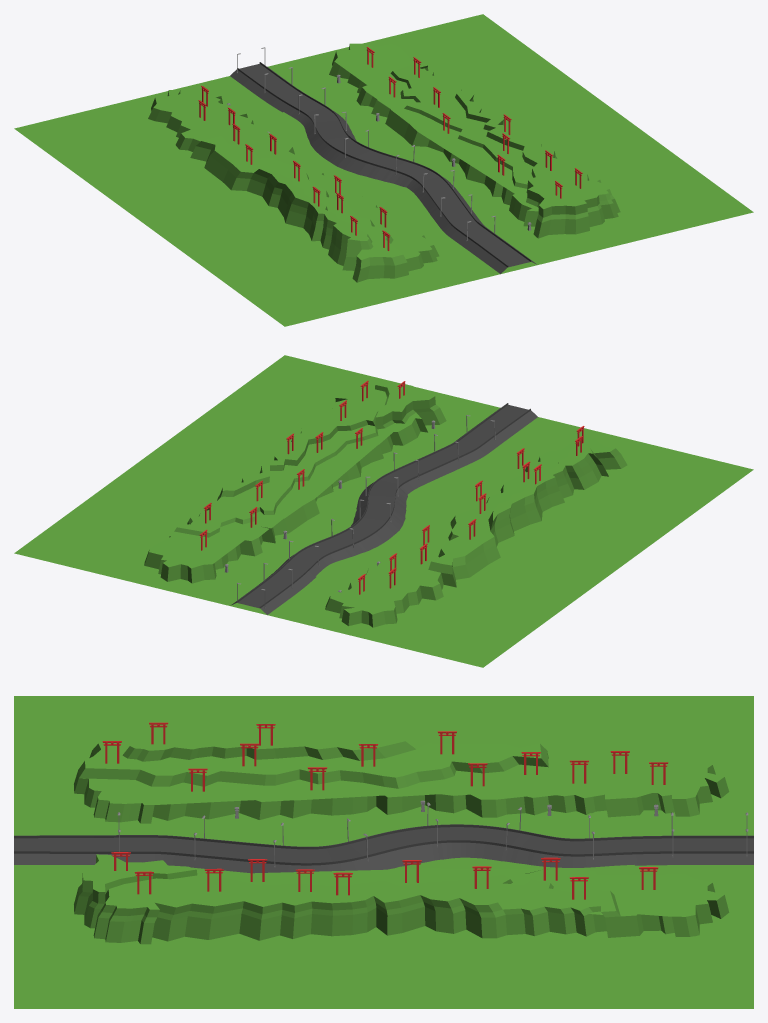
3 views of the same model, one above another, from view 1: azimuth 30°, elevation 25°; view 2: azimuth 150°, elevation 25°; view 3: azimuth 270°, elevation 25° (orthographic). The views are drawn at different scales.
Visible parts, largest first — view 1: Cube.004; view 2: Cube.004; view 3: Cube.004.
Boxes of the visible parts, <box> form: Cube.004: <box>14,14,753,326</box>; Cube.004: <box>14,355,753,667</box>; Cube.004: <box>14,696,753,1008</box>.
Bounding box in the file's own units: 20000 × 1636 × 20000.
